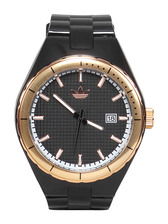watch: (12, 11, 159, 214)
